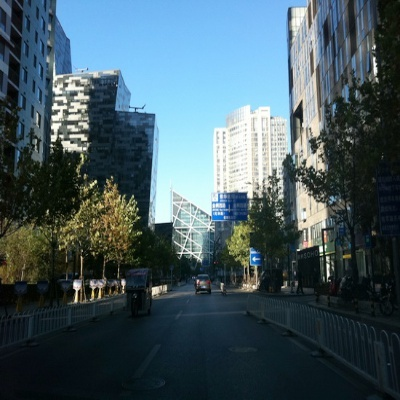car: (192, 270, 213, 296)
motorbike: (124, 266, 154, 316)
person: (219, 277, 227, 301)
